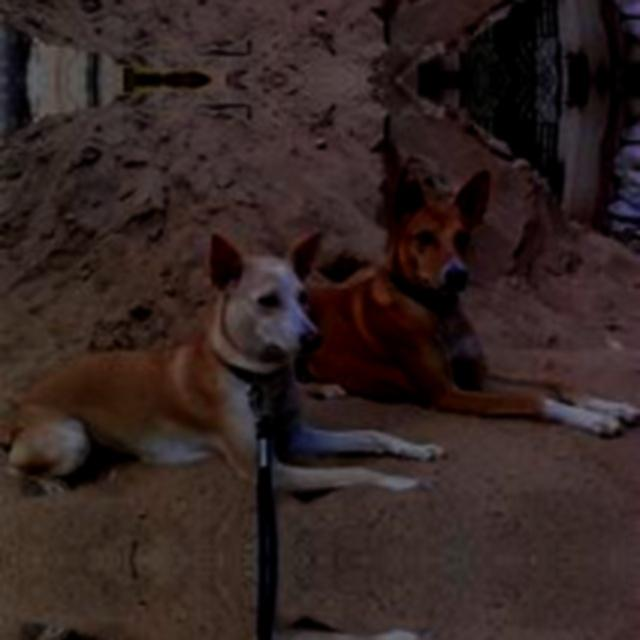dog: (0, 231, 402, 519), (318, 170, 640, 436), (0, 599, 402, 640)
